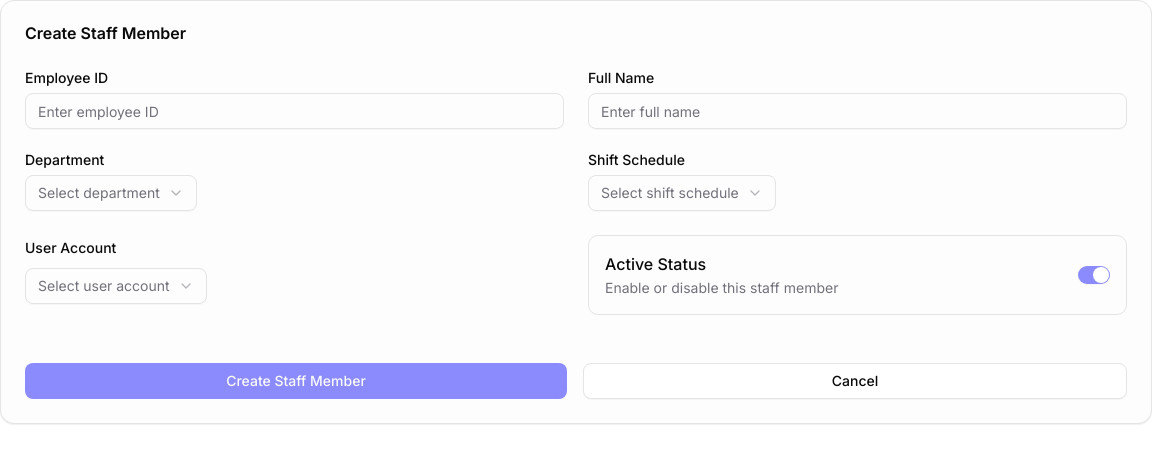
Test: StaffForm › Shift Schedule Options › should show all shift schedule options
The width and height of the screenshot is (1152, 467).
Click the dropdown labelled "Select shift schedule" at (682,193), box [588,175,776,211]
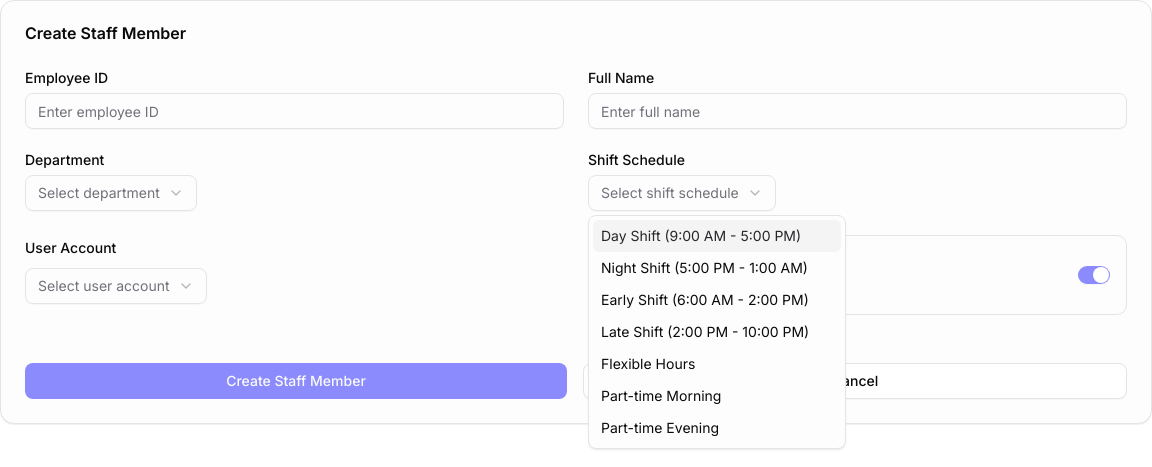
Now the option "Day Shift (9:00 AM - 5:00 PM)" is shown, box [593,220,841,252]
Now the option "Night Shift (5:00 PM - 1:00 AM)" is shown, box [601,259,808,276]
Now the option "Early Shift (6:00 AM - 2:00 PM)" is shown, box [601,291,809,308]
